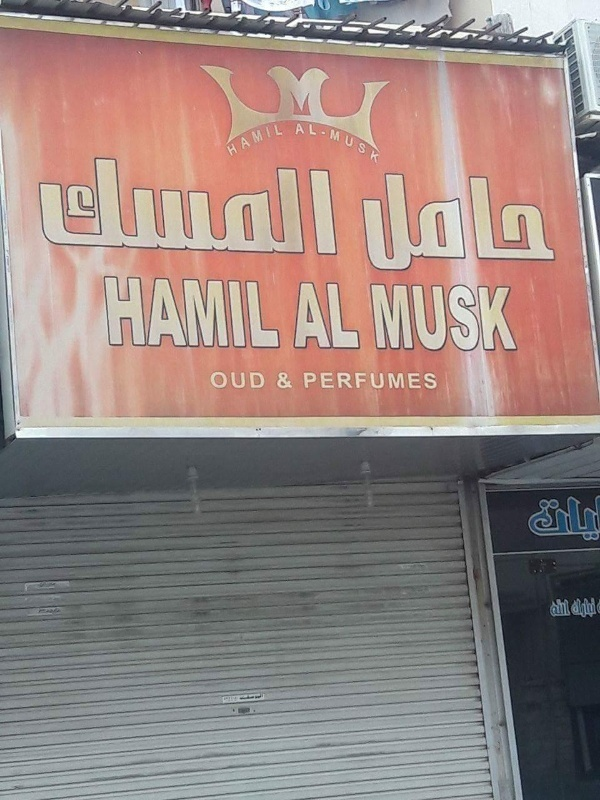text: (545, 172, 561, 273), (49, 151, 64, 258), (65, 151, 80, 258), (81, 151, 96, 258), (97, 151, 112, 258), (113, 151, 128, 258), (129, 151, 144, 258), (145, 151, 160, 258), (161, 151, 176, 258), (177, 151, 192, 258), (193, 151, 208, 258), (209, 151, 224, 258), (225, 151, 240, 258), (241, 151, 256, 258), (257, 151, 272, 258), (273, 151, 288, 258), (289, 151, 304, 258), (305, 151, 320, 258), (321, 151, 336, 258), (369, 172, 384, 273), (385, 172, 400, 273), (401, 172, 416, 273), (417, 172, 432, 273), (433, 172, 448, 273), (449, 172, 464, 273), (465, 172, 480, 273), (481, 172, 496, 273), (497, 172, 512, 273), (513, 172, 528, 273), (529, 172, 544, 273), (113, 273, 128, 352), (129, 273, 144, 352), (145, 273, 160, 352), (161, 273, 176, 352), (177, 273, 192, 352), (193, 273, 208, 352), (209, 273, 224, 352), (225, 273, 240, 352), (241, 273, 256, 352), (257, 273, 272, 352), (38, 151, 48, 258), (305, 281, 320, 352), (321, 281, 336, 352), (337, 281, 352, 352), (385, 282, 400, 353), (401, 282, 416, 353), (417, 282, 432, 353), (433, 282, 448, 353), (449, 282, 464, 353), (465, 282, 480, 353), (481, 282, 496, 353), (497, 282, 512, 353), (371, 282, 384, 353), (359, 172, 368, 273), (529, 492, 544, 547), (545, 492, 560, 547), (561, 492, 576, 547), (577, 492, 592, 547), (102, 273, 112, 352), (353, 281, 364, 352), (305, 119, 320, 166), (321, 119, 336, 166), (337, 119, 352, 166), (353, 119, 368, 166), (369, 119, 384, 166), (273, 273, 281, 352), (292, 119, 304, 166), (241, 122, 256, 159), (257, 122, 272, 159), (337, 151, 341, 258), (298, 281, 304, 352), (229, 122, 240, 159), (273, 122, 284, 159), (521, 492, 528, 547), (577, 597, 592, 620), (225, 369, 240, 391), (241, 369, 256, 391), (593, 492, 599, 547), (211, 369, 224, 391), (305, 372, 320, 391), (321, 372, 336, 391), (337, 372, 352, 391), (353, 372, 368, 391), (369, 372, 384, 391), (385, 372, 400, 391), (401, 372, 416, 391), (417, 372, 432, 391), (513, 282, 517, 353), (274, 371, 288, 391), (548, 599, 560, 621), (561, 599, 572, 621), (257, 369, 266, 391), (225, 692, 240, 705), (241, 692, 256, 705), (433, 372, 440, 391), (257, 692, 266, 705), (571, 597, 576, 620), (593, 597, 598, 620), (289, 371, 294, 391), (222, 692, 224, 705), (303, 372, 304, 391)
